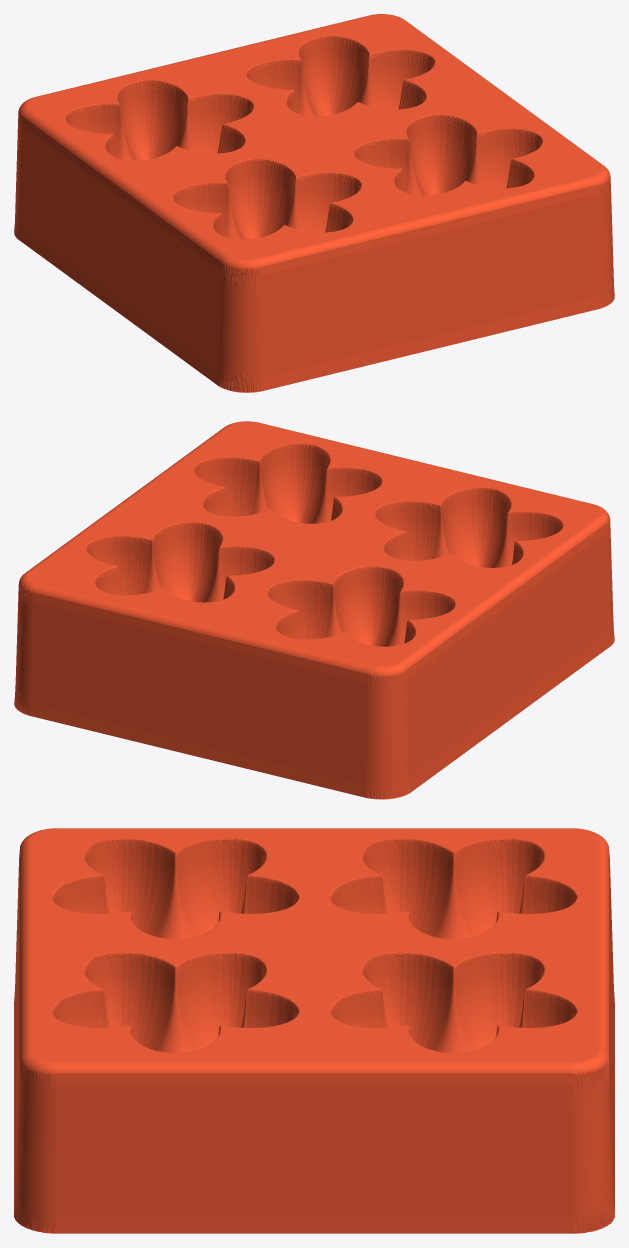
Rendered from mold.glb.
3 views of the same model, one above another, from view 1: azimuth 30°, elevation 25°; view 2: azimuth 150°, elevation 25°; view 3: azimuth 270°, elevation 25° (orthographic). The views are drawn at different scales.
Parts seen in each view (by area): view 1: geometry_0; view 2: geometry_0; view 3: geometry_0.
Boxes of the visible parts, x1=… form: geometry_0: x1=14, y1=14, x2=614, y2=392; geometry_0: x1=14, y1=421, x2=614, y2=799; geometry_0: x1=14, y1=828, x2=614, y2=1233.
Size of the model in its own units: 0.1214 by 0.0377 by 0.1248.
